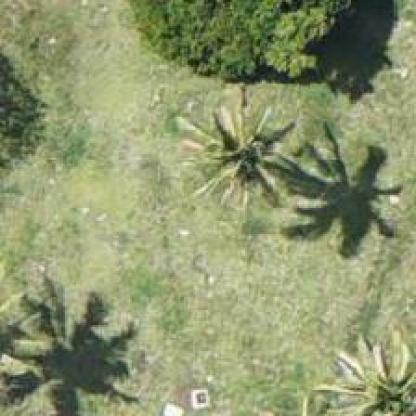coconut tree: (178, 104, 298, 210), (309, 328, 414, 415)
